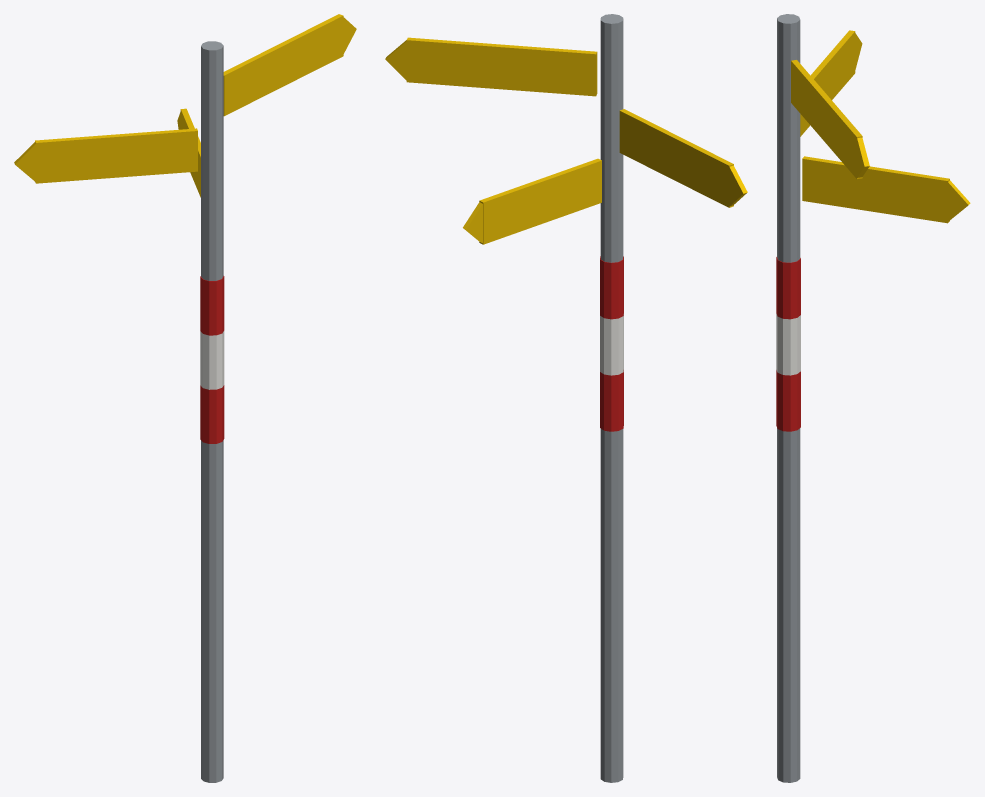
Rendered from prop-guidepost.glb.
3 renders of one model, left to right at view 1: azimuth 30°, elevation 25°; view 2: azimuth 150°, elevation 25°; view 3: azimuth 270°, elevation 25°, orthographic. The views are drawn at different scales.
Visible parts, largest first — view 1: guidepost; view 2: guidepost; view 3: guidepost.
Boxes of the visible parts, <box> form: guidepost: <box>14,14,356,782</box>; guidepost: <box>385,14,747,782</box>; guidepost: <box>776,14,970,782</box>.
Size of the model in its own units: 1.33 by 2.7 by 0.6259.
